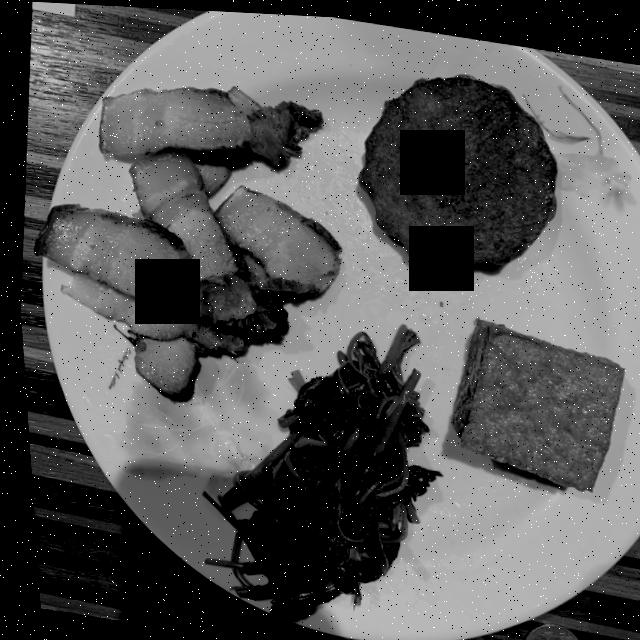Spam: (356, 70, 554, 266)
coin: (514, 618, 573, 640)
egg tofu: (448, 314, 619, 484)
grilled pork: (31, 85, 337, 399)
sweet potato leaves: (197, 322, 434, 619)
